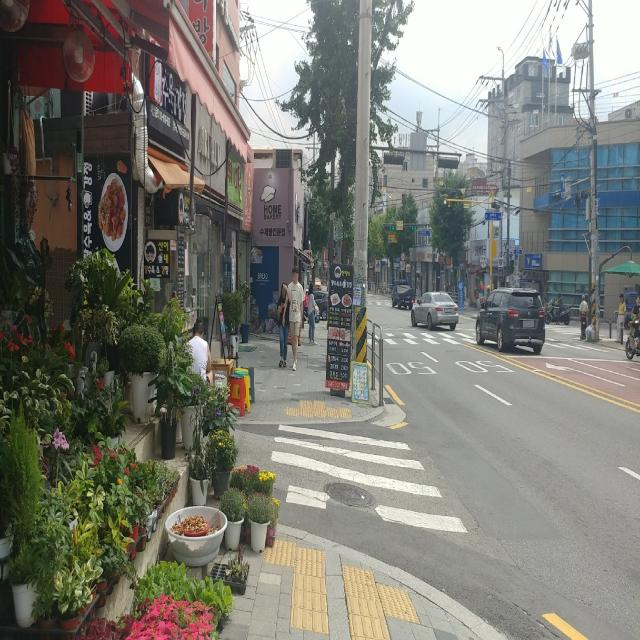횡단보도: (270, 421, 470, 536), (388, 334, 472, 346)
